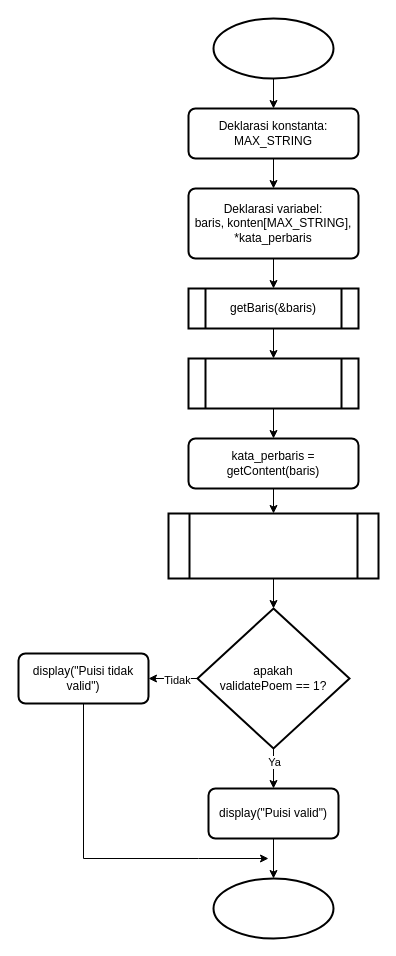
The diagram is 396 pixels wide and 956 high, and some of its shapes have lost their labels. Here are the shapes that lost their labels. From the top down, the box of each, then its label:
(212, 17, 334, 79): Mulai
(187, 357, 359, 409): getContent(baris)
(167, 512, 379, 579): validatePoem(kata_perbaris, baris)
(212, 877, 334, 939): Selesai
